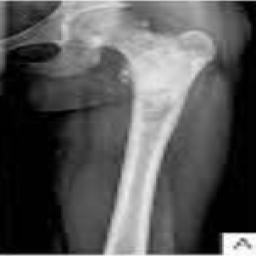cancer: (101, 26, 216, 256)
